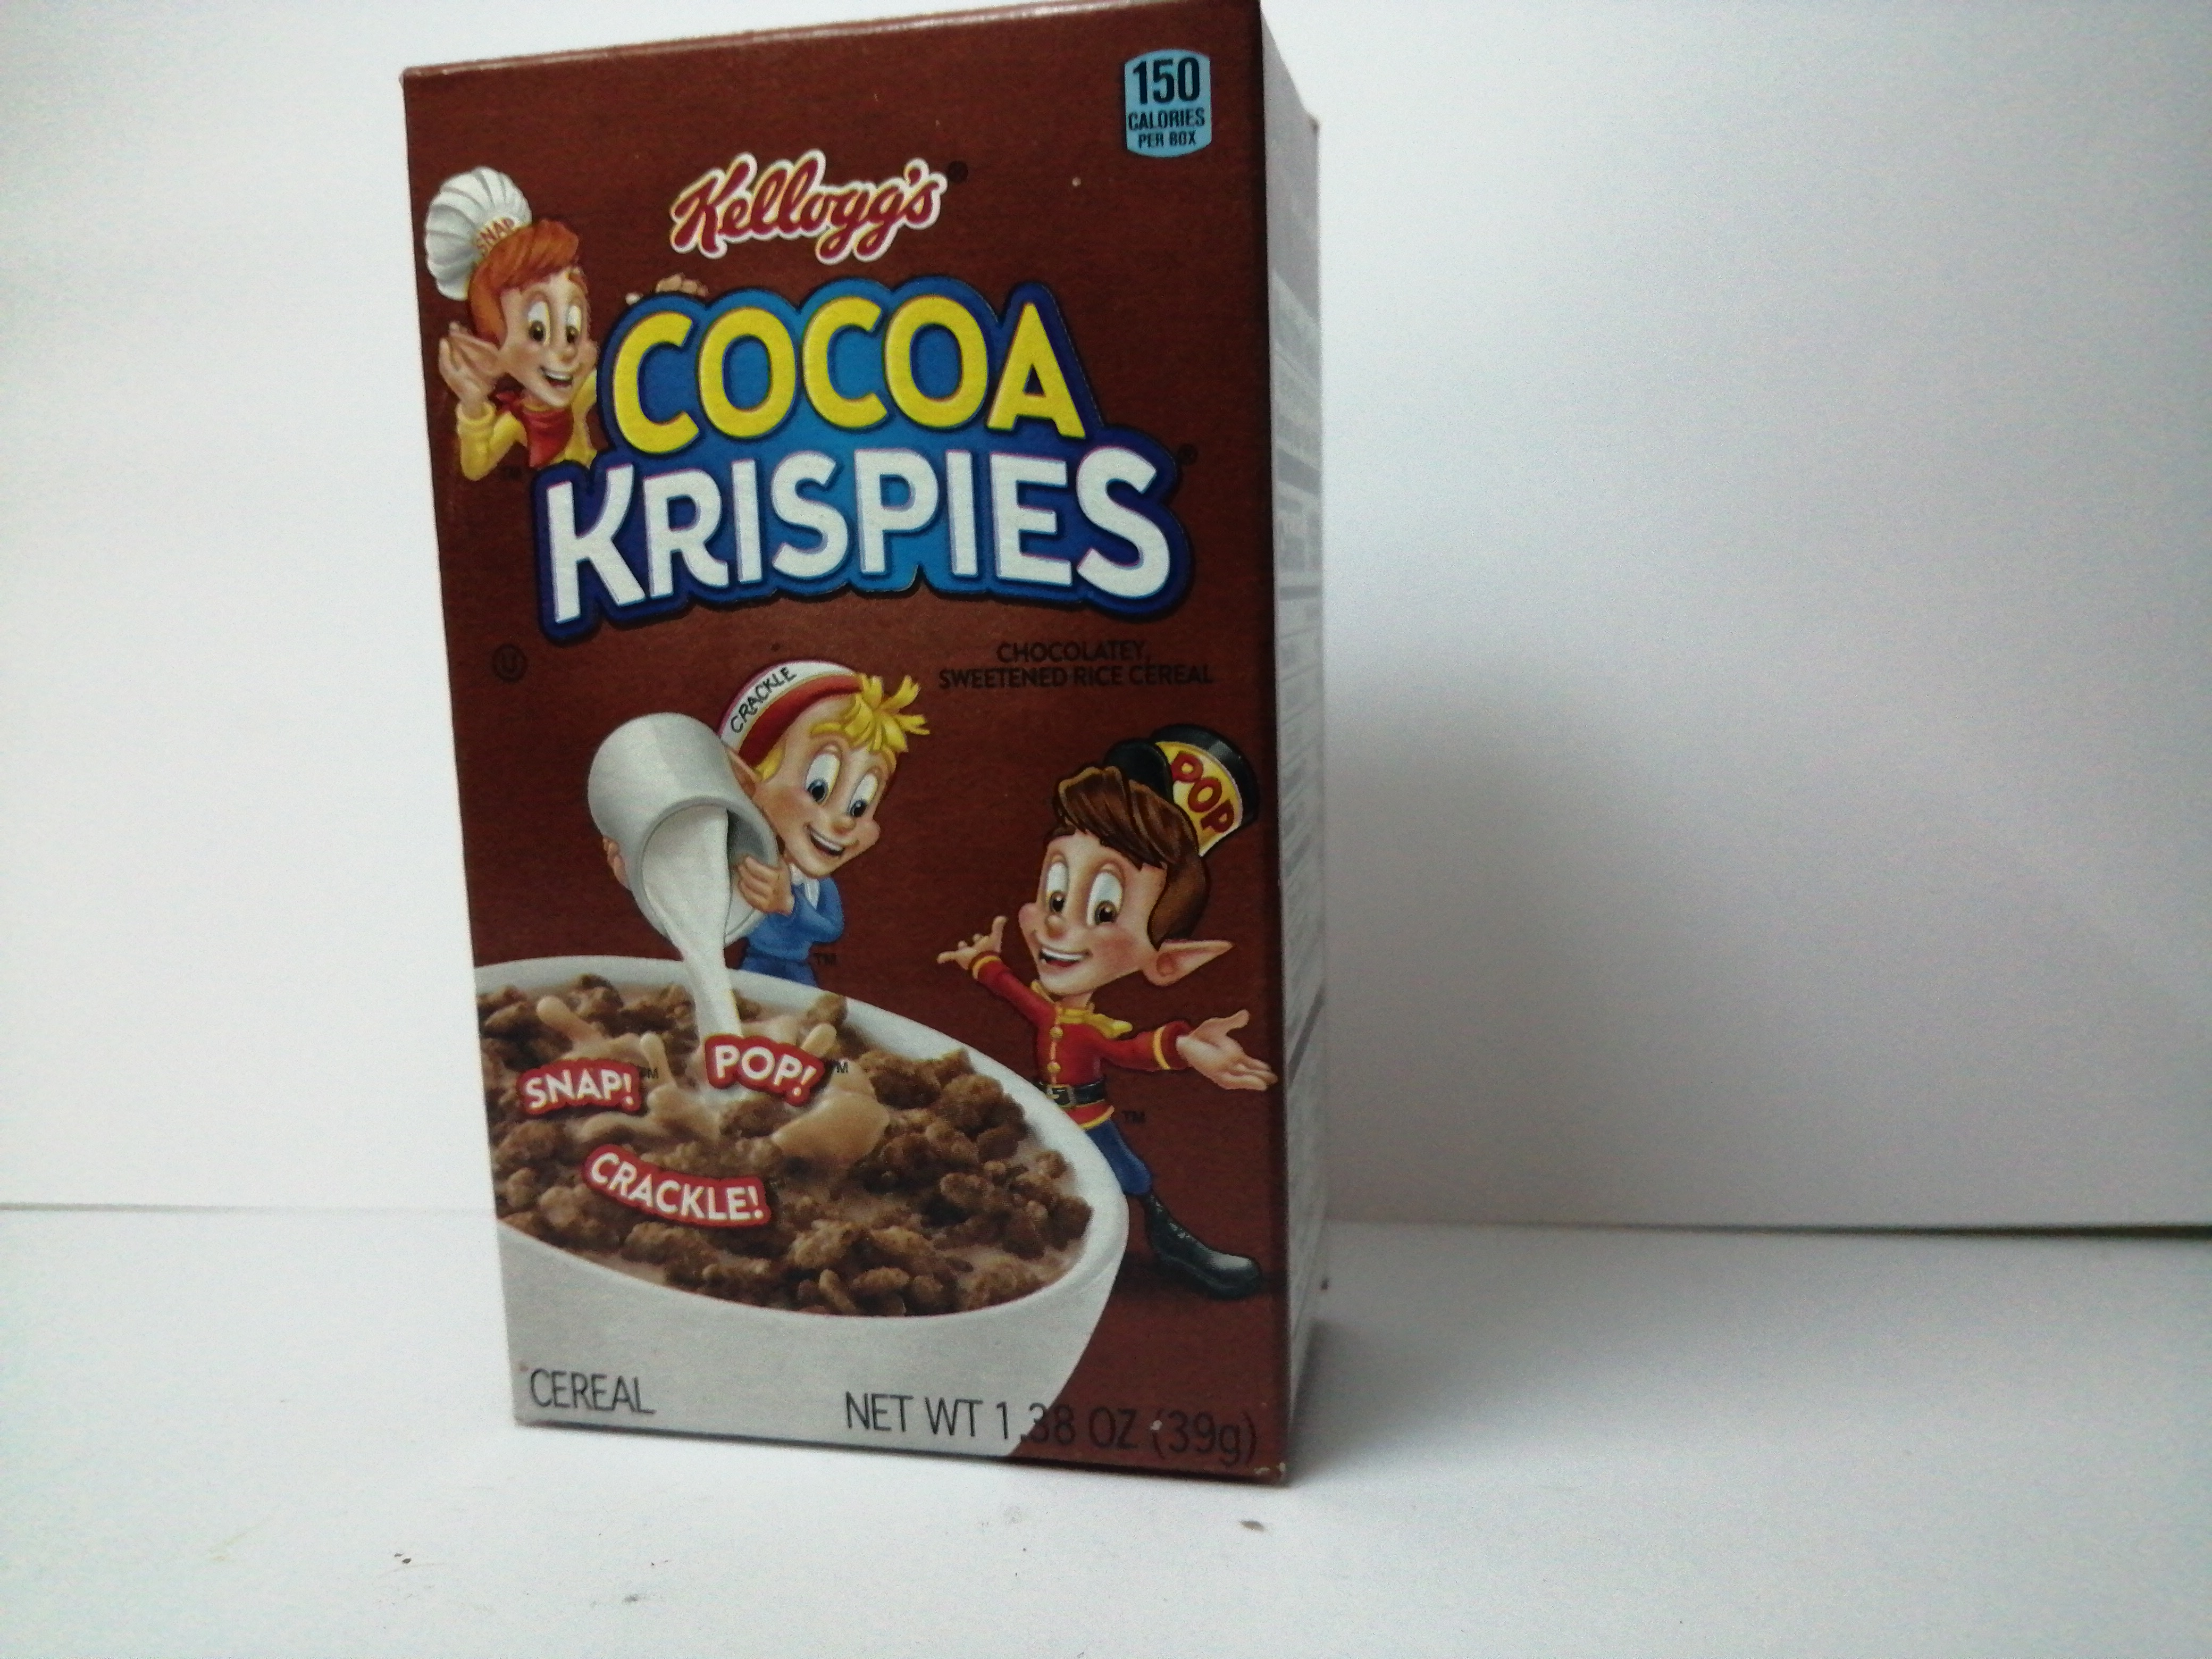cereal chocolate: (376, 2, 1383, 1518)
